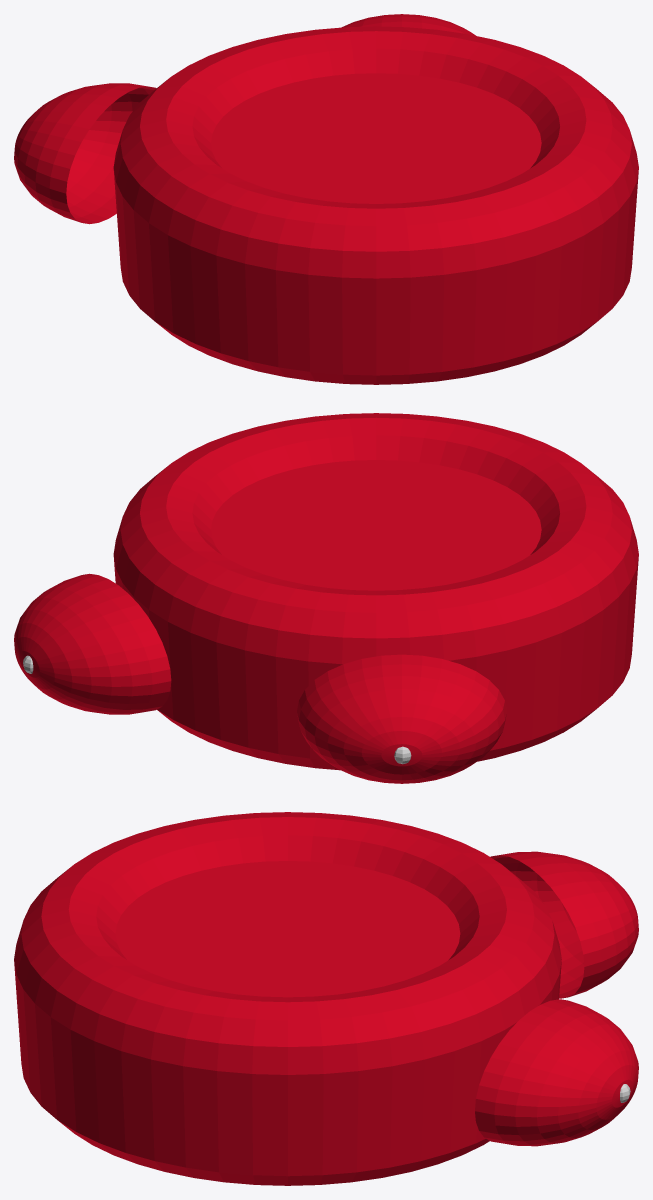
File: AlckyBody.fbx
3 views of the same model, one above another, from view 1: azimuth 30°, elevation 25°; view 2: azimuth 150°, elevation 25°; view 3: azimuth 270°, elevation 25° (orthographic). The views are drawn at different scales.
Parts seen in each view (by area): view 1: AlckyPlayer; view 2: AlckyPlayer; view 3: AlckyPlayer.
Boxes of the visible parts, x1,y1,x2,y2 form: AlckyPlayer: [14, 14, 638, 384]; AlckyPlayer: [14, 413, 638, 783]; AlckyPlayer: [14, 812, 638, 1185].
Size of the model in its own units: 255 by 90 by 285.
